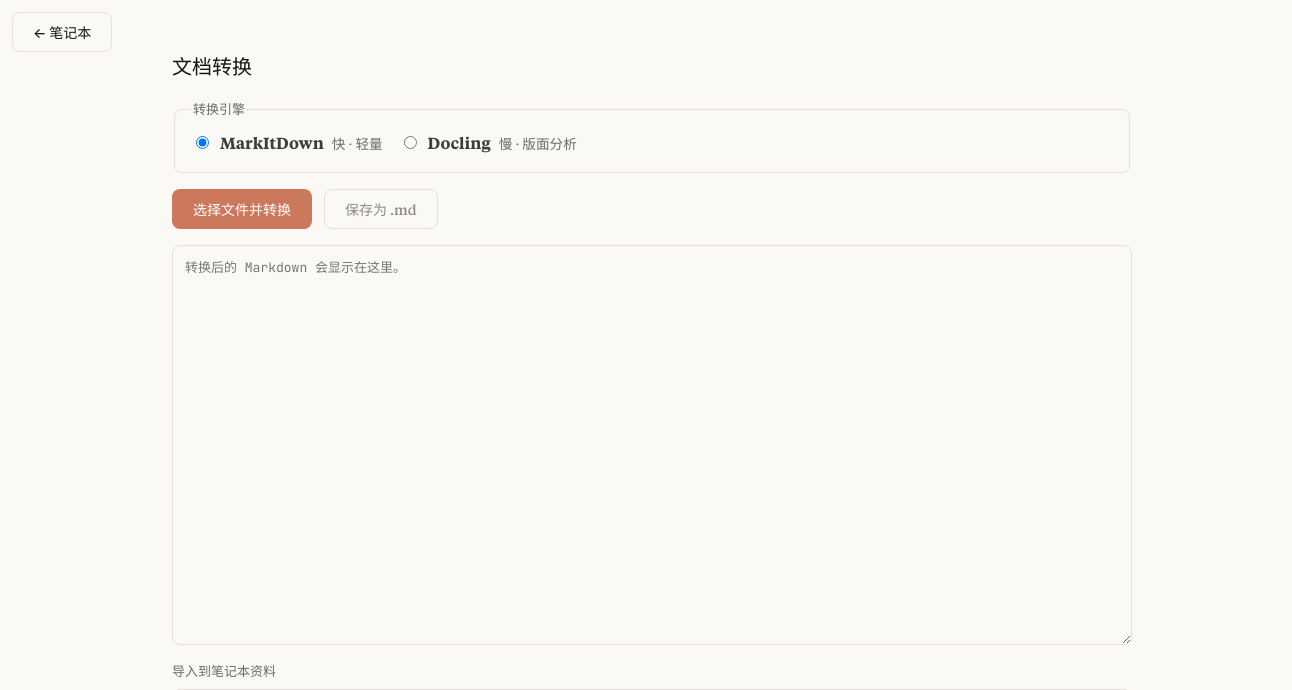
Test: MarkitdownPanel › stays quiet when Docling used the warm service
What coordinates should you click on to do the following:
click the radio button labelled "Docling 慢 · 版面分析"
I would click on:
 (410, 143)
Its box is [404,136,417,149].
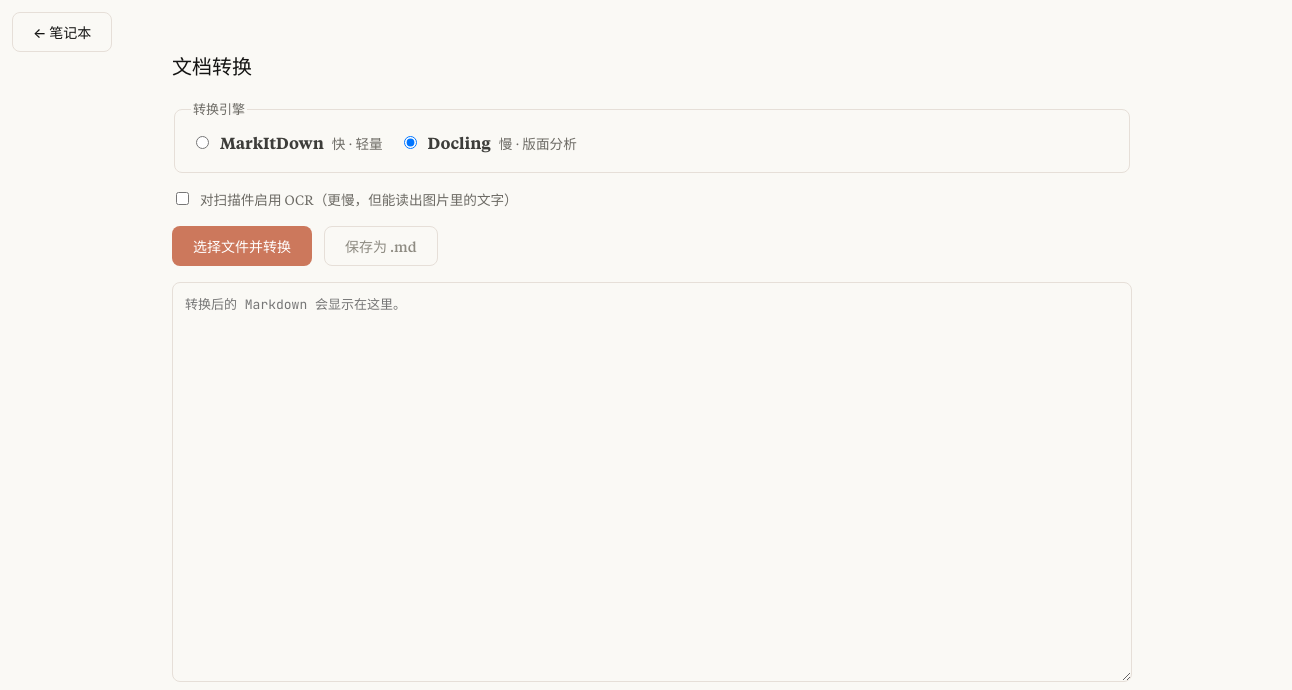
What coordinates should you click on to do the following:
click the button "选择文件并转换"
I would click on:
 (242, 246)
Its box is [172,226,312,266].
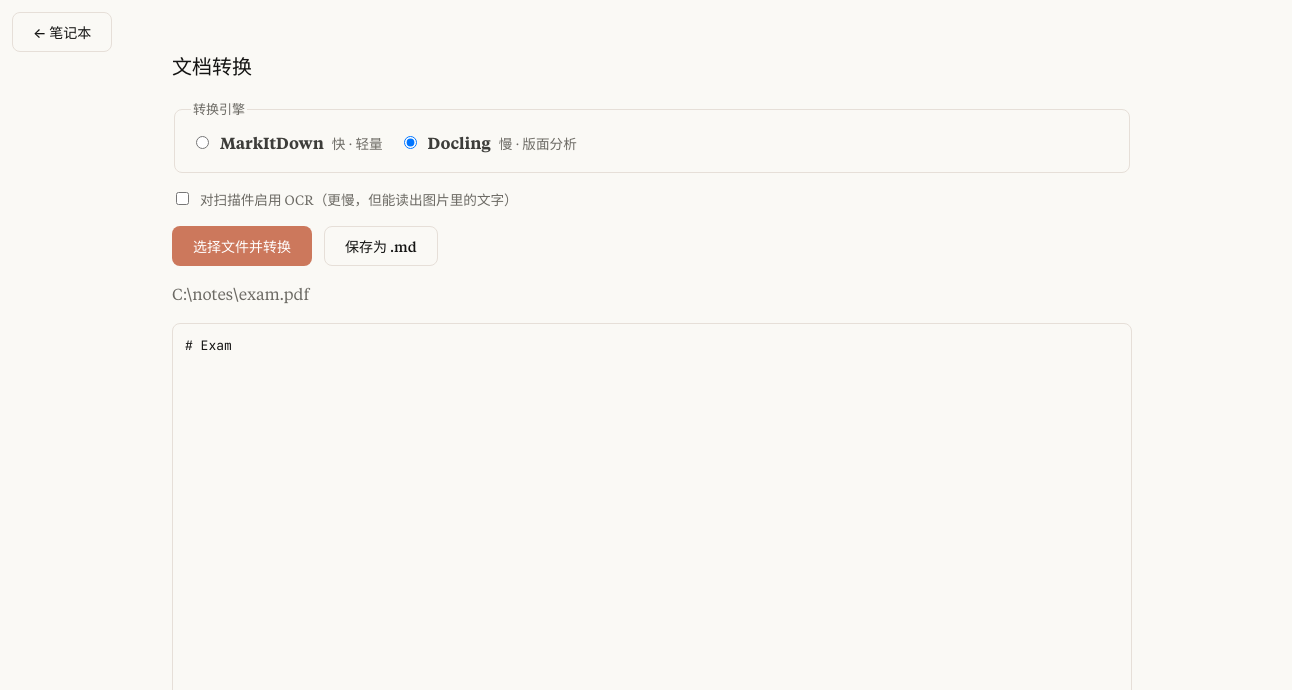
Expected: the text "C:\\notes\\exam.pdf" is shown, [172,283,309,304]
